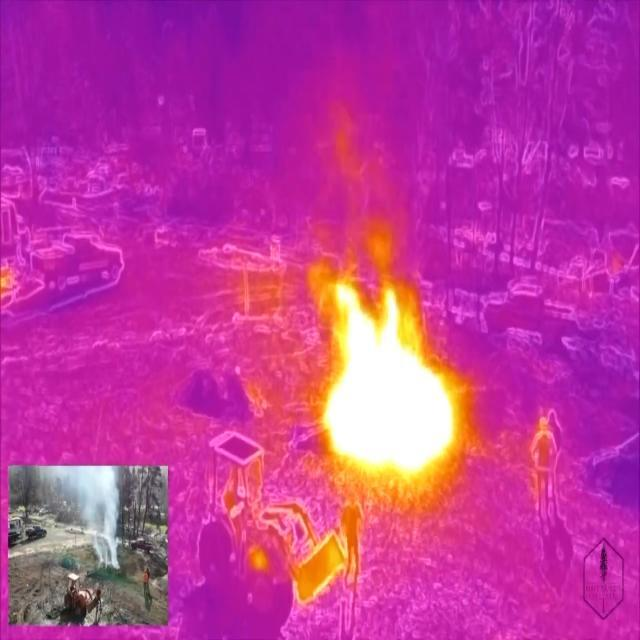fire: (325, 282, 455, 480)
